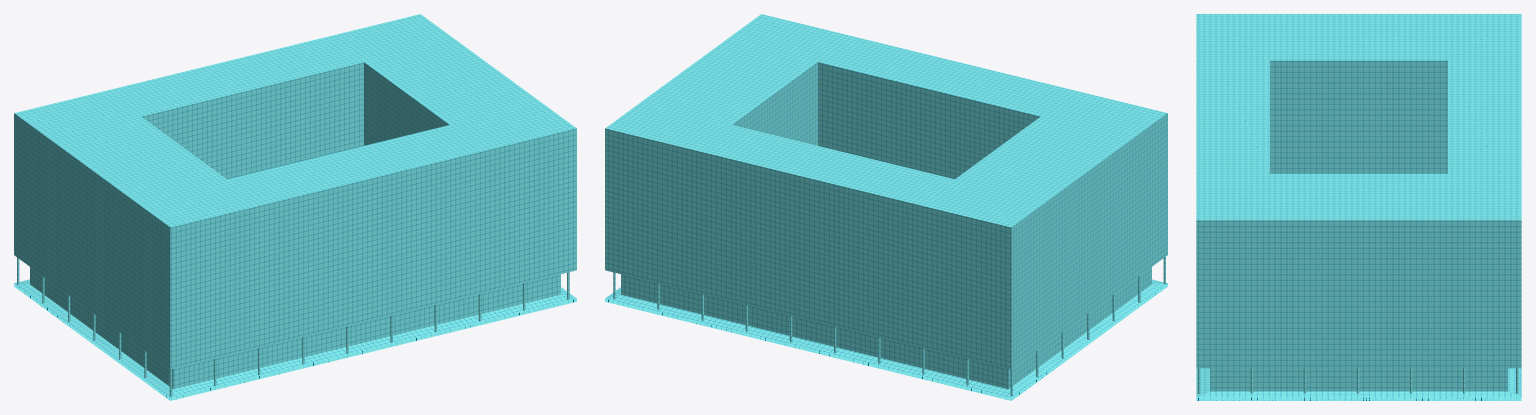
File: CENTRO_COMERCIAL.fbx
The picture shows the model from 3 angles, left to right: view 1: azimuth 30°, elevation 25°; view 2: azimuth 150°, elevation 25°; view 3: azimuth 270°, elevation 25°; orthographic projection. The views are drawn at different scales.
Parts seen in each view (by area): view 1: CENTRO_COMERCIAL; view 2: CENTRO_COMERCIAL; view 3: CENTRO_COMERCIAL.
Part boxes in pixels (x1=…): CENTRO_COMERCIAL: x1=14, y1=14, x2=576, y2=400; CENTRO_COMERCIAL: x1=605, y1=14, x2=1167, y2=400; CENTRO_COMERCIAL: x1=1196, y1=14, x2=1521, y2=400.
Size of the model in its own units: 82.87 by 33.78 by 55.19.
